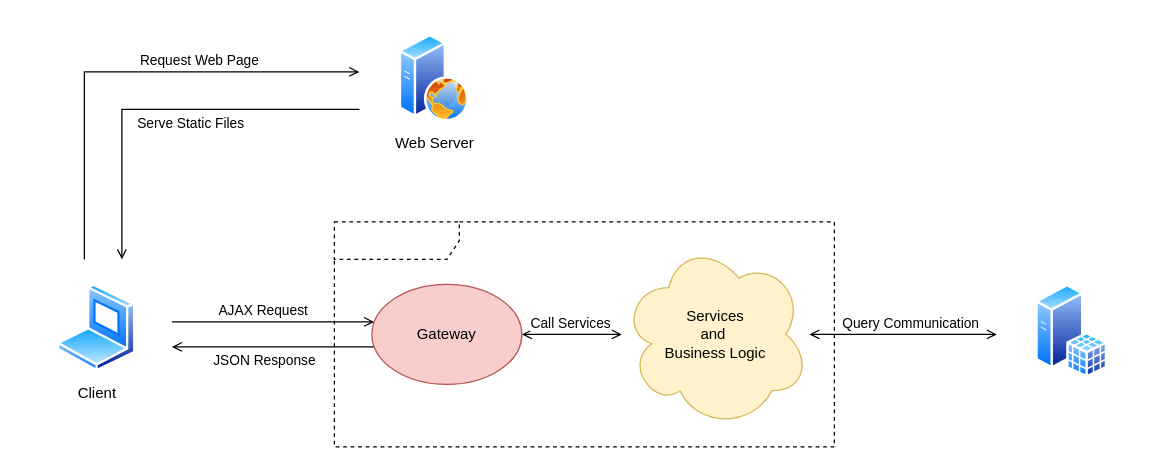
Some shapes in this 1168 by 469 pixel diagram are drawn without their labels. Here are the shapes that lost their labels. From the top down, the box of each, then its label:
(333, 221, 834, 447): REST API Backend
(1035, 284, 1107, 378): SQL Server
